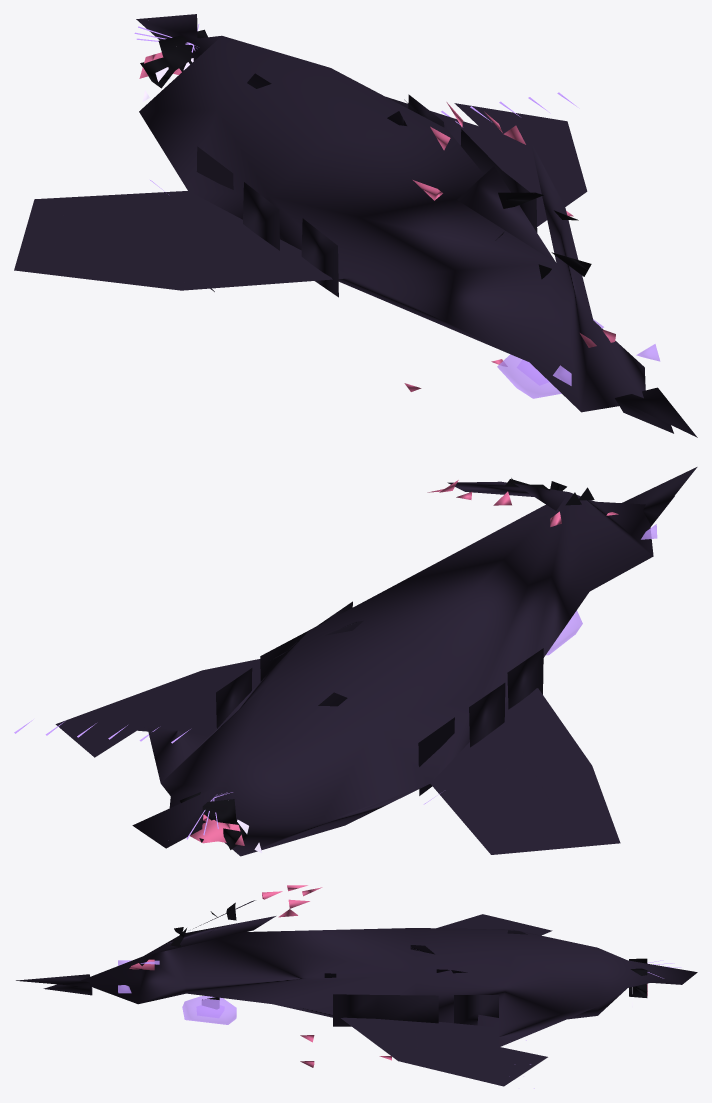
Rendered from choral-piesniarze-hawk-77-lod2.glb.
The picture shows the model from 3 angles, top to bottom: view 1: azimuth 30°, elevation 25°; view 2: azimuth 150°, elevation 25°; view 3: azimuth 270°, elevation 25°; orthographic projection. The views are drawn at different scales.
Size of the model in its own units: 62.81 by 28.02 by 103.
